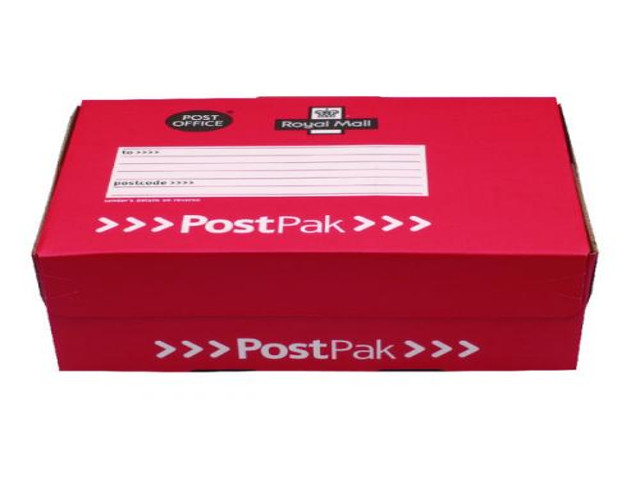cardboard: (30, 95, 598, 374)
